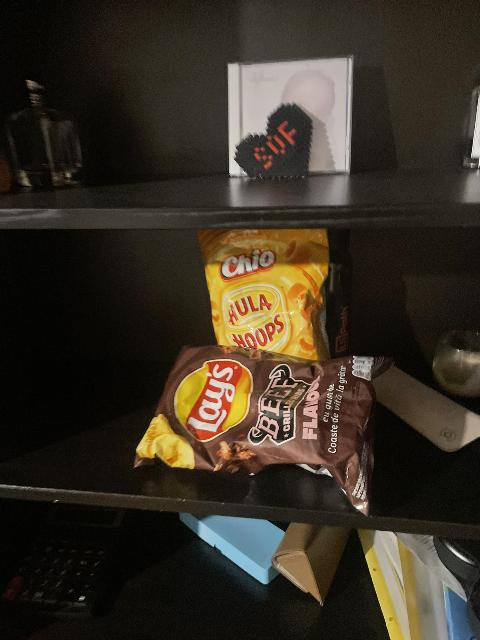Chio Hula Hoops Cheese 70g: (198, 230, 333, 359)
Lays Beef Grilled Ribs 125g: (140, 345, 385, 505)
